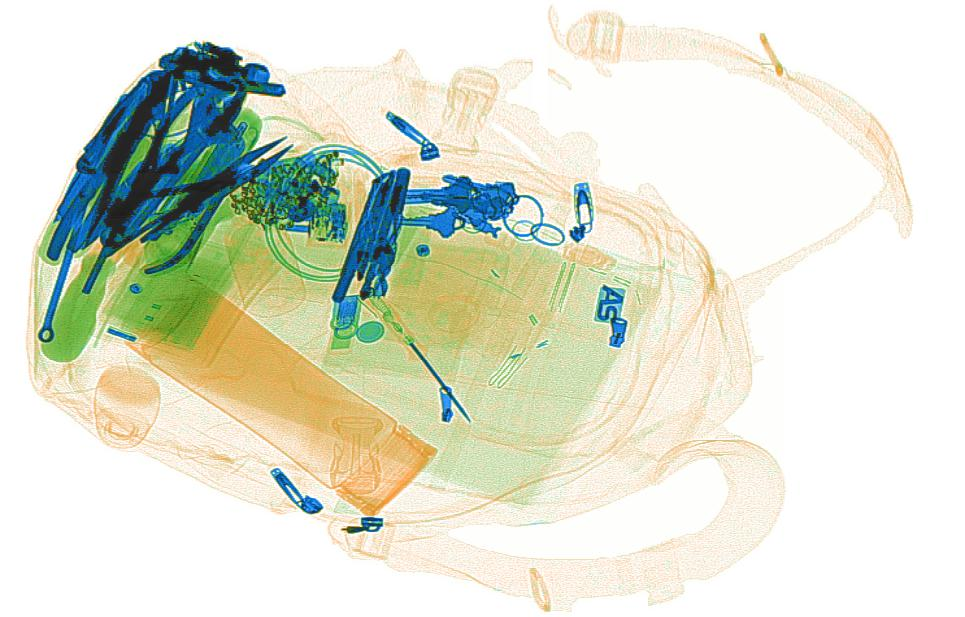USBFlashDisk: (326, 293, 362, 352)
battery: (187, 124, 247, 209)
